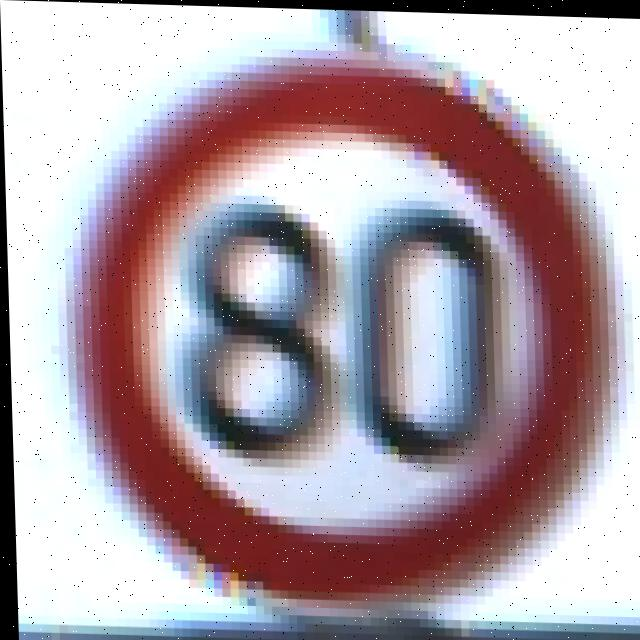speed_limit_80: (61, 54, 618, 623)
